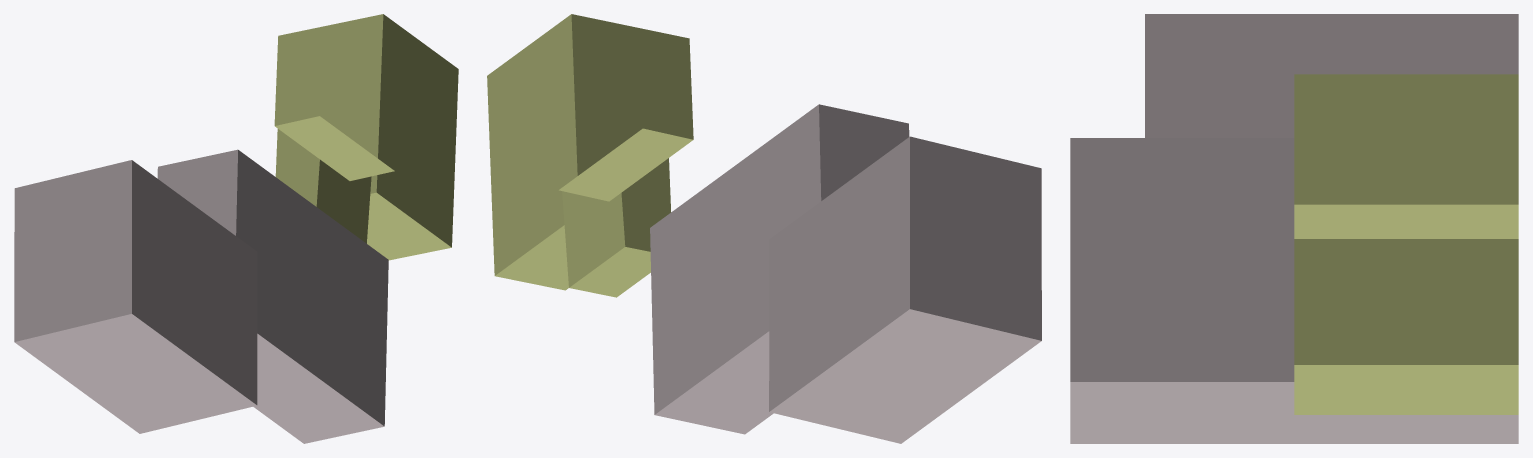
3 views of the same model, side by side, from view 1: azimuth 30°, elevation 25°; view 2: azimuth 150°, elevation 25°; view 3: azimuth 270°, elevation 25° (orthographic). The views are drawn at different scales.
Parts seen in each view (by area): view 1: 0_2_3_2_1_2_0_1_3_3; view 2: 0_2_3_2_1_2_0_1_3_3; view 3: 0_2_3_2_1_2_0_1_3_3.
Part boxes in pixels (left/top/right/bottom): 0_2_3_2_1_2_0_1_3_3: left=14, top=14, right=458, bottom=443; 0_2_3_2_1_2_0_1_3_3: left=487, top=14, right=1041, bottom=443; 0_2_3_2_1_2_0_1_3_3: left=1070, top=14, right=1518, bottom=443.
Size of the model in its own units: 25.48 by 17.8 by 18.
